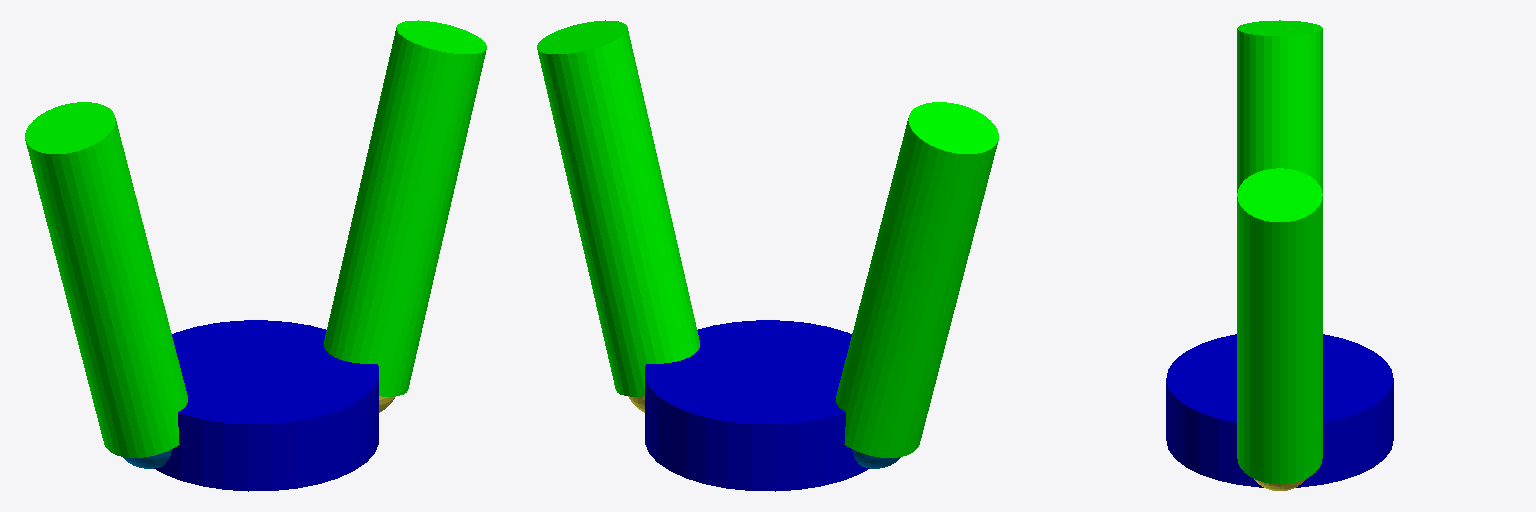
The robot description file, URDF, robot "gripper_2f_1j":
<?xml version='1.0' encoding='UTF-8'?>
<robot name="gripper_2f_1j">
  <link name="palm">
    <inertial>
      <origin xyz="0.0 0.0 0.0" rpy="0.0 -0.0 0.0"/>
      <mass value="1.0"/>
      <inertia ixx="1.0" ixy="0.0" ixz="0.0" iyy="1.0" iyz="0.0" izz="1.0"/>
    </inertial>
    <visual>
      <geometry>
        <cylinder radius="0.05" length="0.03"/>
      </geometry>
      <material name="blue"/>
      <origin xyz="0.0 0.0 0.0" rpy="0.0 -0.0 0.0"/>
    </visual>
    <collision>
      <geometry>
        <cylinder radius="0.05" length="0.03"/>
      </geometry>
      <origin xyz="0.0 0.0 0.0" rpy="0.0 0.0 0.0"/>
    </collision>
  </link>
  <link name="f11">
    <inertial>
      <origin xyz="0.0 0.0 0.0" rpy="0.0 -0.0 0.0"/>
      <mass value="1.0"/>
      <inertia ixx="1.0" ixy="0.0" ixz="0.0" iyy="1.0" iyz="0.0" izz="1.0"/>
    </inertial>
    <visual>
      <geometry>
        <cylinder radius="0.018820549467144145" length="0.1489589212035583"/>
      </geometry>
      <material name="green"/>
      <origin xyz="0.0 0.0 0.07447946060177915" rpy="0.0 -0.0 0.0"/>
    </visual>
    <collision>
      <geometry>
        <cylinder radius="0.018820549467144145" length="0.1489589212035583"/>
      </geometry>
      <origin xyz="0.0 0.0 0.05" rpy="0.0 0.0 0.0"/>
    </collision>
  </link>
  <link name="f21">
    <inertial>
      <origin xyz="0.0 0.0 0.0" rpy="0.0 -0.0 0.0"/>
      <mass value="1.0"/>
      <inertia ixx="1.0" ixy="0.0" ixz="0.0" iyy="1.0" iyz="0.0" izz="1.0"/>
    </inertial>
    <visual>
      <geometry>
        <cylinder radius="0.018820549467144145" length="0.1489589212035583"/>
      </geometry>
      <material name="green"/>
      <origin xyz="0.0 0.0 0.07447946060177915" rpy="0.0 -0.0 0.0"/>
    </visual>
    <collision>
      <geometry>
        <cylinder radius="0.018820549467144145" length="0.1489589212035583"/>
      </geometry>
      <origin xyz="0.0 0.0 0.05" rpy="0.0 0.0 0.0"/>
    </collision>
  </link>
  <link name="f11_base">
    <inertial>
      <origin xyz="0.0 0.0 0.0" rpy="0.0 -0.0 0.0"/>
      <mass value="1.0"/>
      <inertia ixx="1.0" ixy="0.0" ixz="0.0" iyy="1.0" iyz="0.0" izz="1.0"/>
    </inertial>
    <visual>
      <geometry>
        <sphere radius="0.015"/>
      </geometry>
      <origin xyz="0.0 0.0 0.0" rpy="0.0 -0.0 0.0"/>
    </visual>
  </link>
  <link name="f21_base">
    <inertial>
      <origin xyz="0.0 0.0 0.0" rpy="0.0 -0.0 0.0"/>
      <mass value="1.0"/>
      <inertia ixx="1.0" ixy="0.0" ixz="0.0" iyy="1.0" iyz="0.0" izz="1.0"/>
    </inertial>
    <visual>
      <geometry>
        <sphere radius="0.015"/>
      </geometry>
      <origin xyz="0.0 0.0 0.0" rpy="0.0 -0.0 0.0"/>
    </visual>
  </link>
  <joint name="f11_joint" type="revolute">
    <dynamics damping="100.0" friction="1.0"/>
    <limit effort="30.0" velocity="2.0" lower="-0.6" upper="0.25"/>
    <parent link="f11_base"/>
    <child link="f11"/>
    <axis xyz="0. 1. 0."/>
    <origin xyz="0.0 0.0 0.0" rpy="0.0 0.25 0.0"/>
  </joint>
  <joint name="f21_joint" type="revolute">
    <dynamics damping="100.0" friction="1.0"/>
    <limit effort="30.0" velocity="2.0" lower="-0.6" upper="0.25"/>
    <parent link="f21_base"/>
    <child link="f21"/>
    <axis xyz=" 0. -1.  0."/>
    <origin xyz="0.0 0.0 0.0" rpy="0.0 -0.25 0.0"/>
  </joint>
  <joint name="f11_base_joint" type="fixed">
    <parent link="palm"/>
    <child link="f11_base"/>
    <axis xyz="1. 0. 0."/>
    <origin xyz="0.05 0.0 0.0" rpy="0.0 0.0 0.0"/>
  </joint>
  <joint name="f21_base_joint" type="fixed">
    <parent link="palm"/>
    <child link="f21_base"/>
    <axis xyz="1. 0. 0."/>
    <origin xyz="-0.05 -0.0 0.0" rpy="0.0 0.0 0.0"/>
  </joint>
  <material name="blue">
    <color rgba="0.  0.  0.8 1. "/>
  </material>
  <material name="green">
    <color rgba="0. 1. 0. 1."/>
  </material>
</robot>

--- What the picture shows (computed from the rendered views, not written in the file) ---
The picture shows the robot from 3 angles, left to right: view 1: azimuth 30°, elevation 25°; view 2: azimuth 150°, elevation 25°; view 3: azimuth 270°, elevation 25°; orthographic projection.
Robot: gripper_2f_1j — 5 links, 4 joints (2 revolute, 2 fixed); root link palm; default pose: all joints at 0.
Links seen in each view (by area): view 1: f11, f21, palm; view 2: f11, f21, palm; view 3: f11, palm, f21.
Boxes of the visible links, x1=… form: f11: x1=324, y1=20, x2=486, y2=396; f21: x1=25, y1=102, x2=187, y2=457; palm: x1=154, y1=320, x2=378, y2=491; f11: x1=537, y1=20, x2=699, y2=396; f21: x1=836, y1=102, x2=998, y2=457; palm: x1=645, y1=320, x2=869, y2=491; f11: x1=1237, y1=168, x2=1322, y2=484; palm: x1=1166, y1=334, x2=1393, y2=487; f21: x1=1237, y1=20, x2=1322, y2=192.
Bounding box of the posed robot: 0.2102 × 0.1 × 0.164 m (x, y, z).
Geometry: primitives only (box / cylinder / sphere), no mesh files.